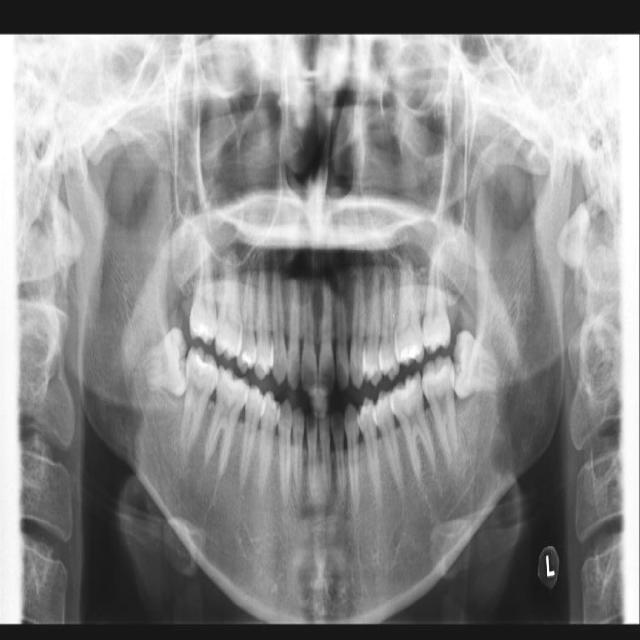Filling: (398, 342, 425, 361)
impacted tooth: (133, 328, 189, 398), (453, 334, 510, 398)
